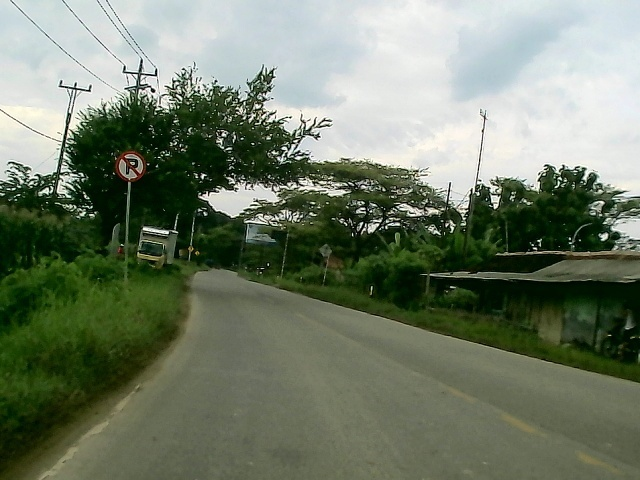Dilarang parkir: (113, 149, 147, 186)
